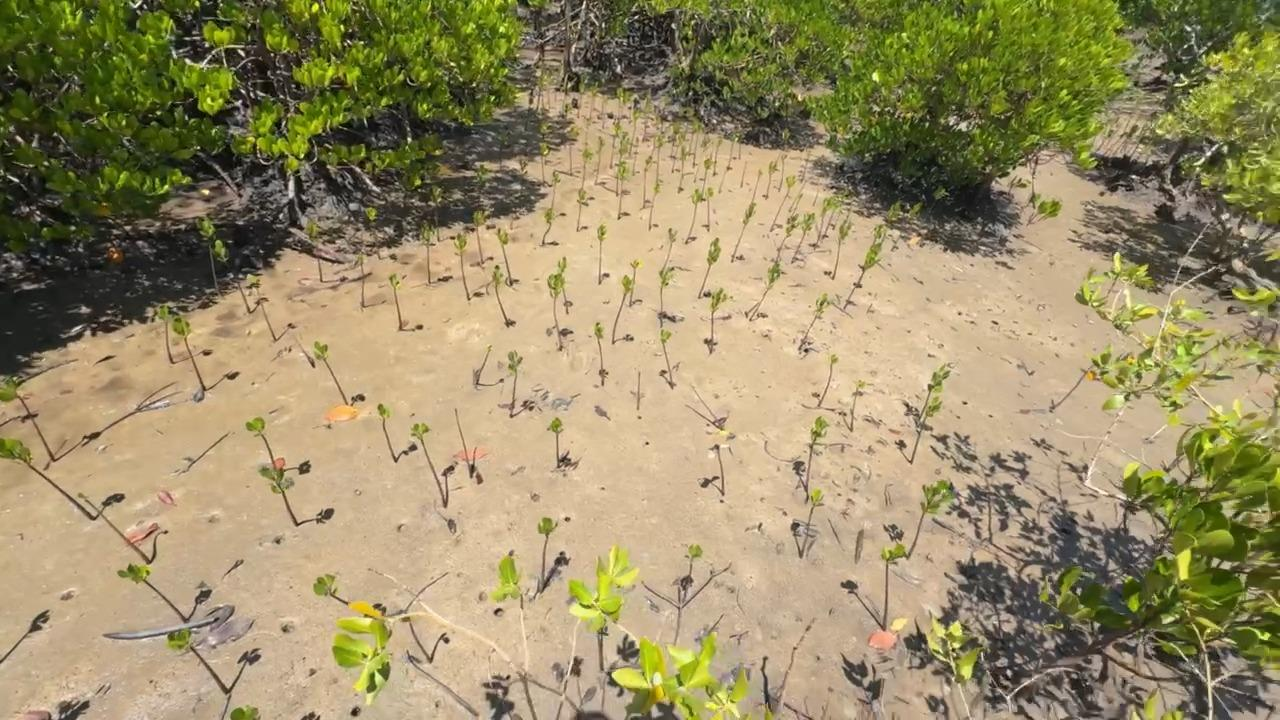Tree: (0, 437, 96, 521), (78, 492, 152, 564), (0, 378, 57, 462), (116, 564, 190, 625), (906, 479, 956, 561), (167, 629, 227, 695), (410, 423, 448, 509), (841, 241, 884, 313), (769, 636, 805, 716), (171, 315, 208, 392), (212, 239, 251, 312), (258, 466, 298, 527), (915, 362, 951, 428), (910, 396, 944, 465), (882, 543, 908, 631), (1049, 365, 1095, 413), (314, 341, 349, 404), (805, 416, 830, 504), (196, 215, 222, 296), (247, 273, 275, 341), (749, 261, 780, 321), (799, 293, 829, 350), (800, 490, 825, 558), (245, 417, 277, 469), (891, 201, 923, 252), (916, 185, 950, 232), (769, 175, 796, 232), (731, 202, 756, 263), (539, 517, 559, 592), (698, 237, 721, 300), (612, 274, 632, 344), (681, 543, 703, 606), (831, 218, 853, 280), (376, 403, 398, 464), (547, 272, 564, 350), (813, 194, 836, 251), (791, 212, 816, 264), (775, 213, 800, 265), (816, 354, 839, 409), (455, 408, 473, 477), (709, 287, 727, 354), (304, 219, 323, 282), (454, 233, 471, 300), (491, 265, 509, 328), (821, 196, 846, 241), (659, 267, 677, 329), (1026, 197, 1063, 227), (313, 574, 348, 605), (507, 350, 523, 417), (880, 199, 903, 245), (158, 306, 176, 363), (685, 188, 703, 245), (428, 184, 445, 243), (658, 227, 678, 277), (495, 228, 512, 286), (410, 622, 433, 664), (788, 176, 813, 213), (546, 417, 564, 468), (364, 207, 381, 260), (832, 188, 852, 231), (592, 321, 605, 387), (660, 328, 674, 389), (851, 380, 867, 433), (709, 444, 725, 496), (472, 210, 485, 271), (389, 274, 403, 330), (474, 345, 492, 387), (420, 223, 432, 283), (628, 107, 642, 158), (561, 74, 577, 118), (558, 256, 570, 314), (538, 118, 553, 164), (629, 259, 643, 308), (617, 160, 628, 220), (765, 160, 780, 201), (671, 132, 686, 173), (692, 122, 705, 169), (597, 223, 607, 284), (648, 182, 660, 231), (642, 156, 653, 209), (775, 128, 791, 164), (609, 123, 621, 170), (1007, 174, 1032, 196), (701, 156, 713, 201), (541, 208, 555, 246), (355, 254, 365, 307), (523, 89, 535, 133), (1144, 423, 1169, 444), (570, 125, 580, 176), (581, 146, 593, 188), (641, 92, 651, 142), (230, 704, 261, 720), (787, 193, 803, 224), (539, 141, 550, 186), (594, 136, 604, 185), (477, 164, 488, 208), (712, 133, 723, 177), (499, 128, 511, 168), (588, 80, 600, 119), (704, 187, 714, 233), (726, 128, 737, 169), (576, 187, 586, 232), (677, 144, 686, 194), (669, 119, 680, 158), (750, 169, 762, 204), (778, 153, 788, 192), (620, 90, 633, 120), (551, 171, 561, 209), (800, 152, 812, 183), (535, 73, 544, 114), (650, 135, 666, 158), (519, 160, 528, 196), (576, 82, 585, 118), (1021, 193, 1041, 209), (619, 130, 629, 162), (602, 93, 610, 129), (541, 71, 548, 111), (873, 223, 885, 245), (717, 169, 728, 193), (616, 87, 623, 123), (546, 69, 552, 110), (740, 160, 748, 189), (553, 70, 559, 107), (745, 302, 760, 316), (636, 372, 641, 410), (655, 146, 660, 184), (585, 118, 591, 147), (632, 149, 638, 176), (702, 140, 714, 152), (738, 133, 743, 160), (813, 188, 820, 207), (693, 164, 700, 183)
